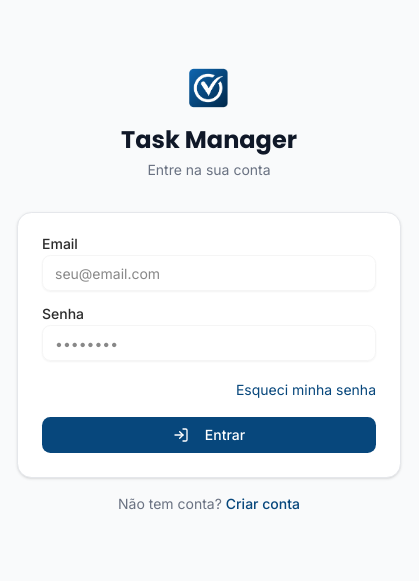
Test case: Auth — modo cadastro › navega para modo cadastro
Click the button "Criar conta".
click(263, 504)  # box left=226, top=494, right=300, bottom=514
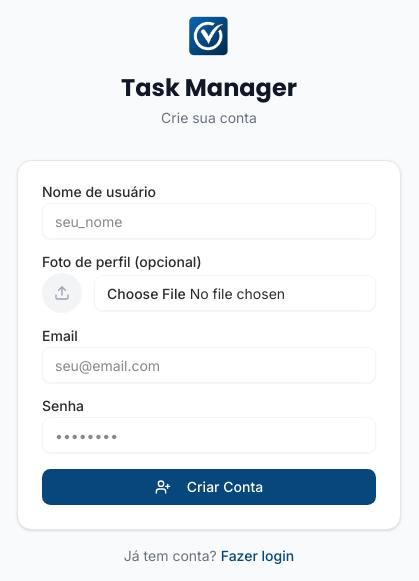
Check: the field labelled "Nome de usuário" is shown, box left=42, top=203, right=376, bottom=239
